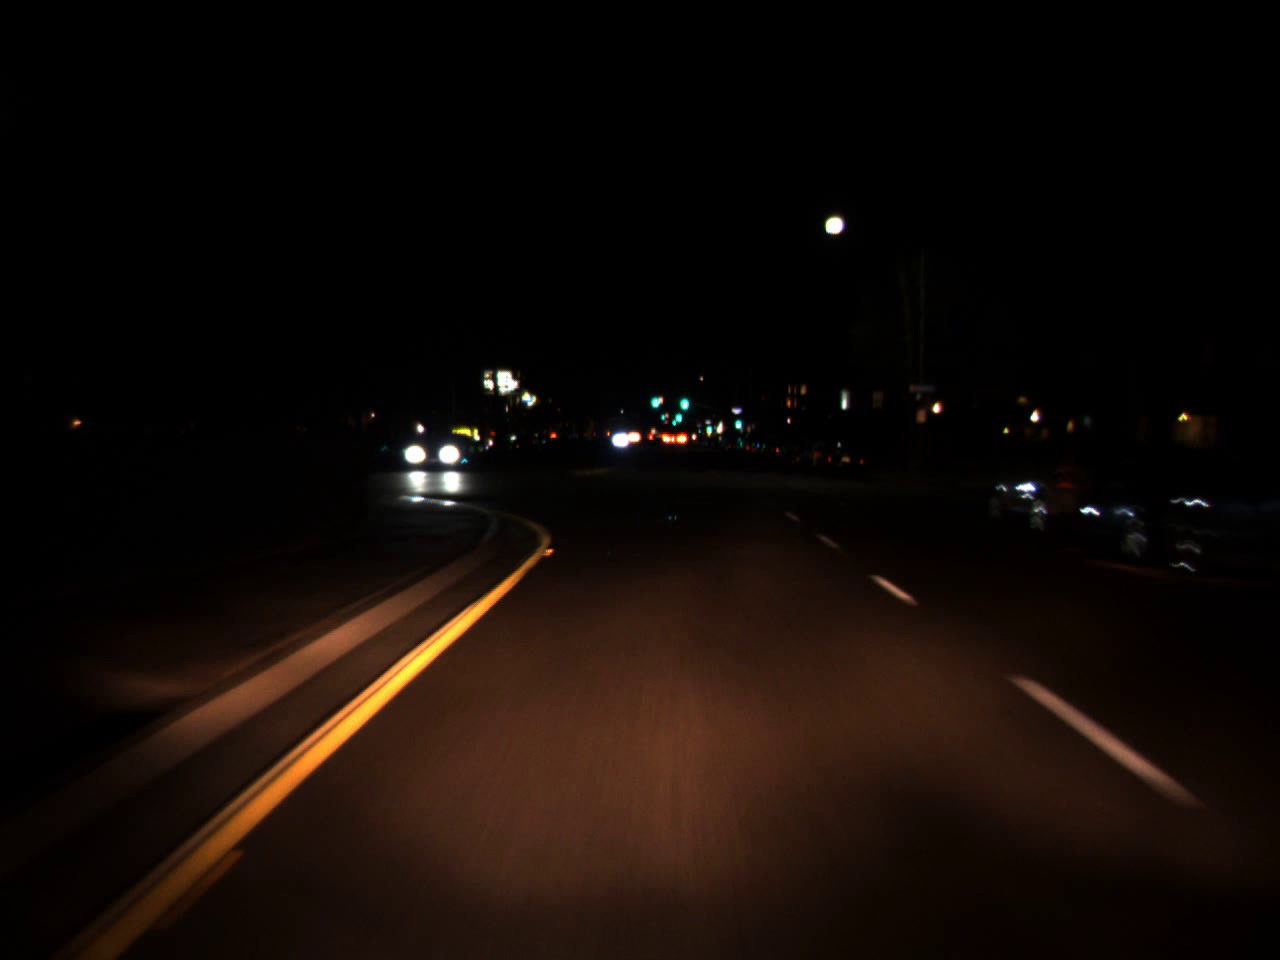go: (649, 384, 659, 411), (679, 388, 689, 412), (673, 404, 683, 425), (733, 414, 742, 426), (706, 419, 713, 434), (670, 412, 677, 427)
